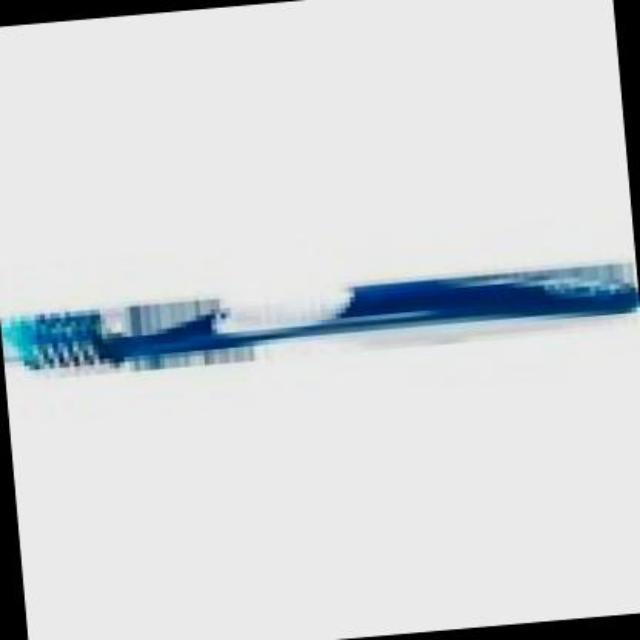toothbrush: (0, 238, 638, 404)
